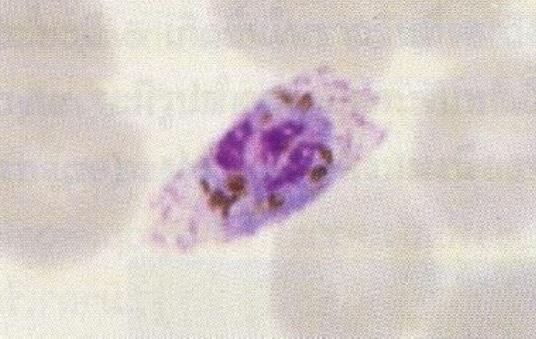Infected: (148, 65, 388, 258)
